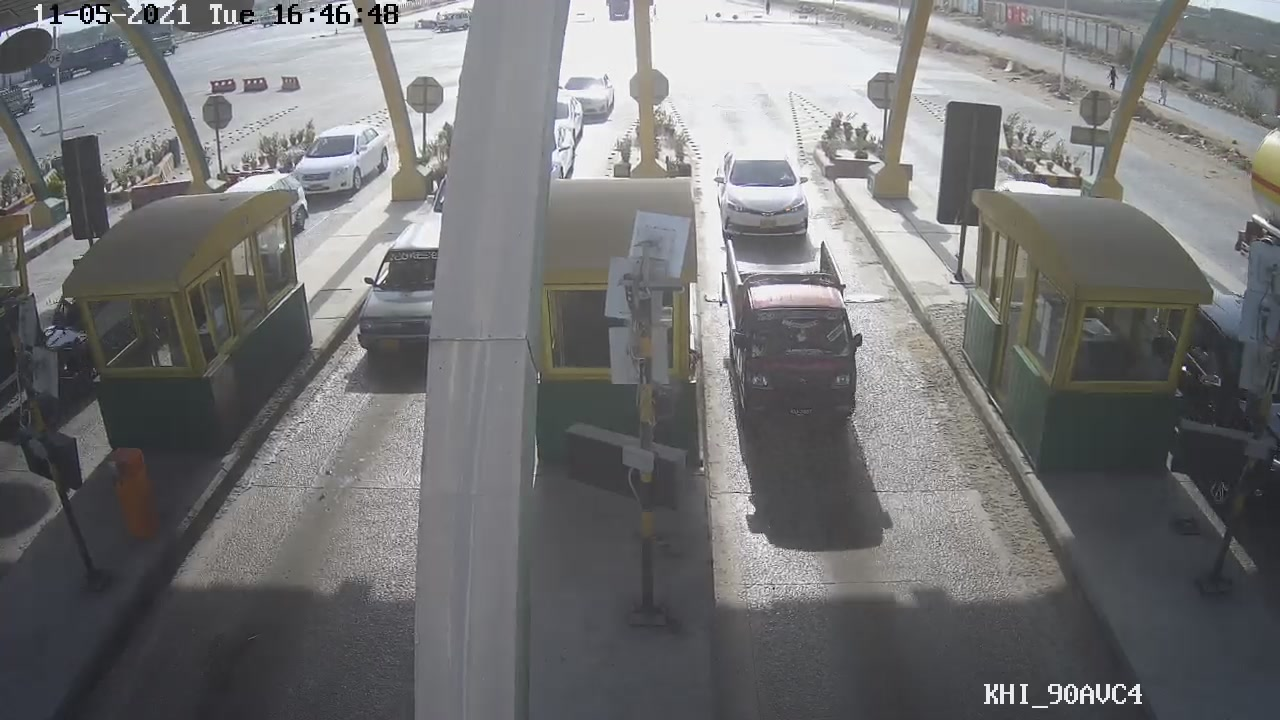F1: (713, 238, 870, 425)
